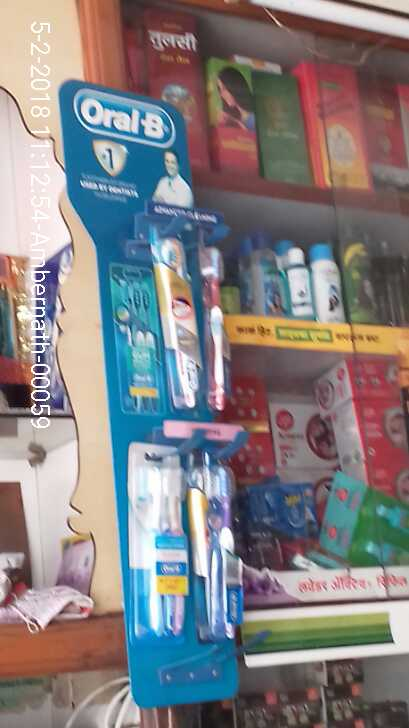oralb: (189, 452, 256, 649), (154, 219, 204, 411), (140, 463, 189, 633), (198, 237, 233, 404)
